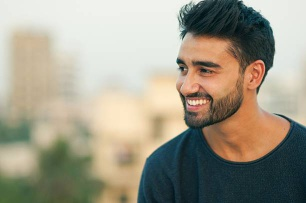male: (172, 23, 250, 134)
